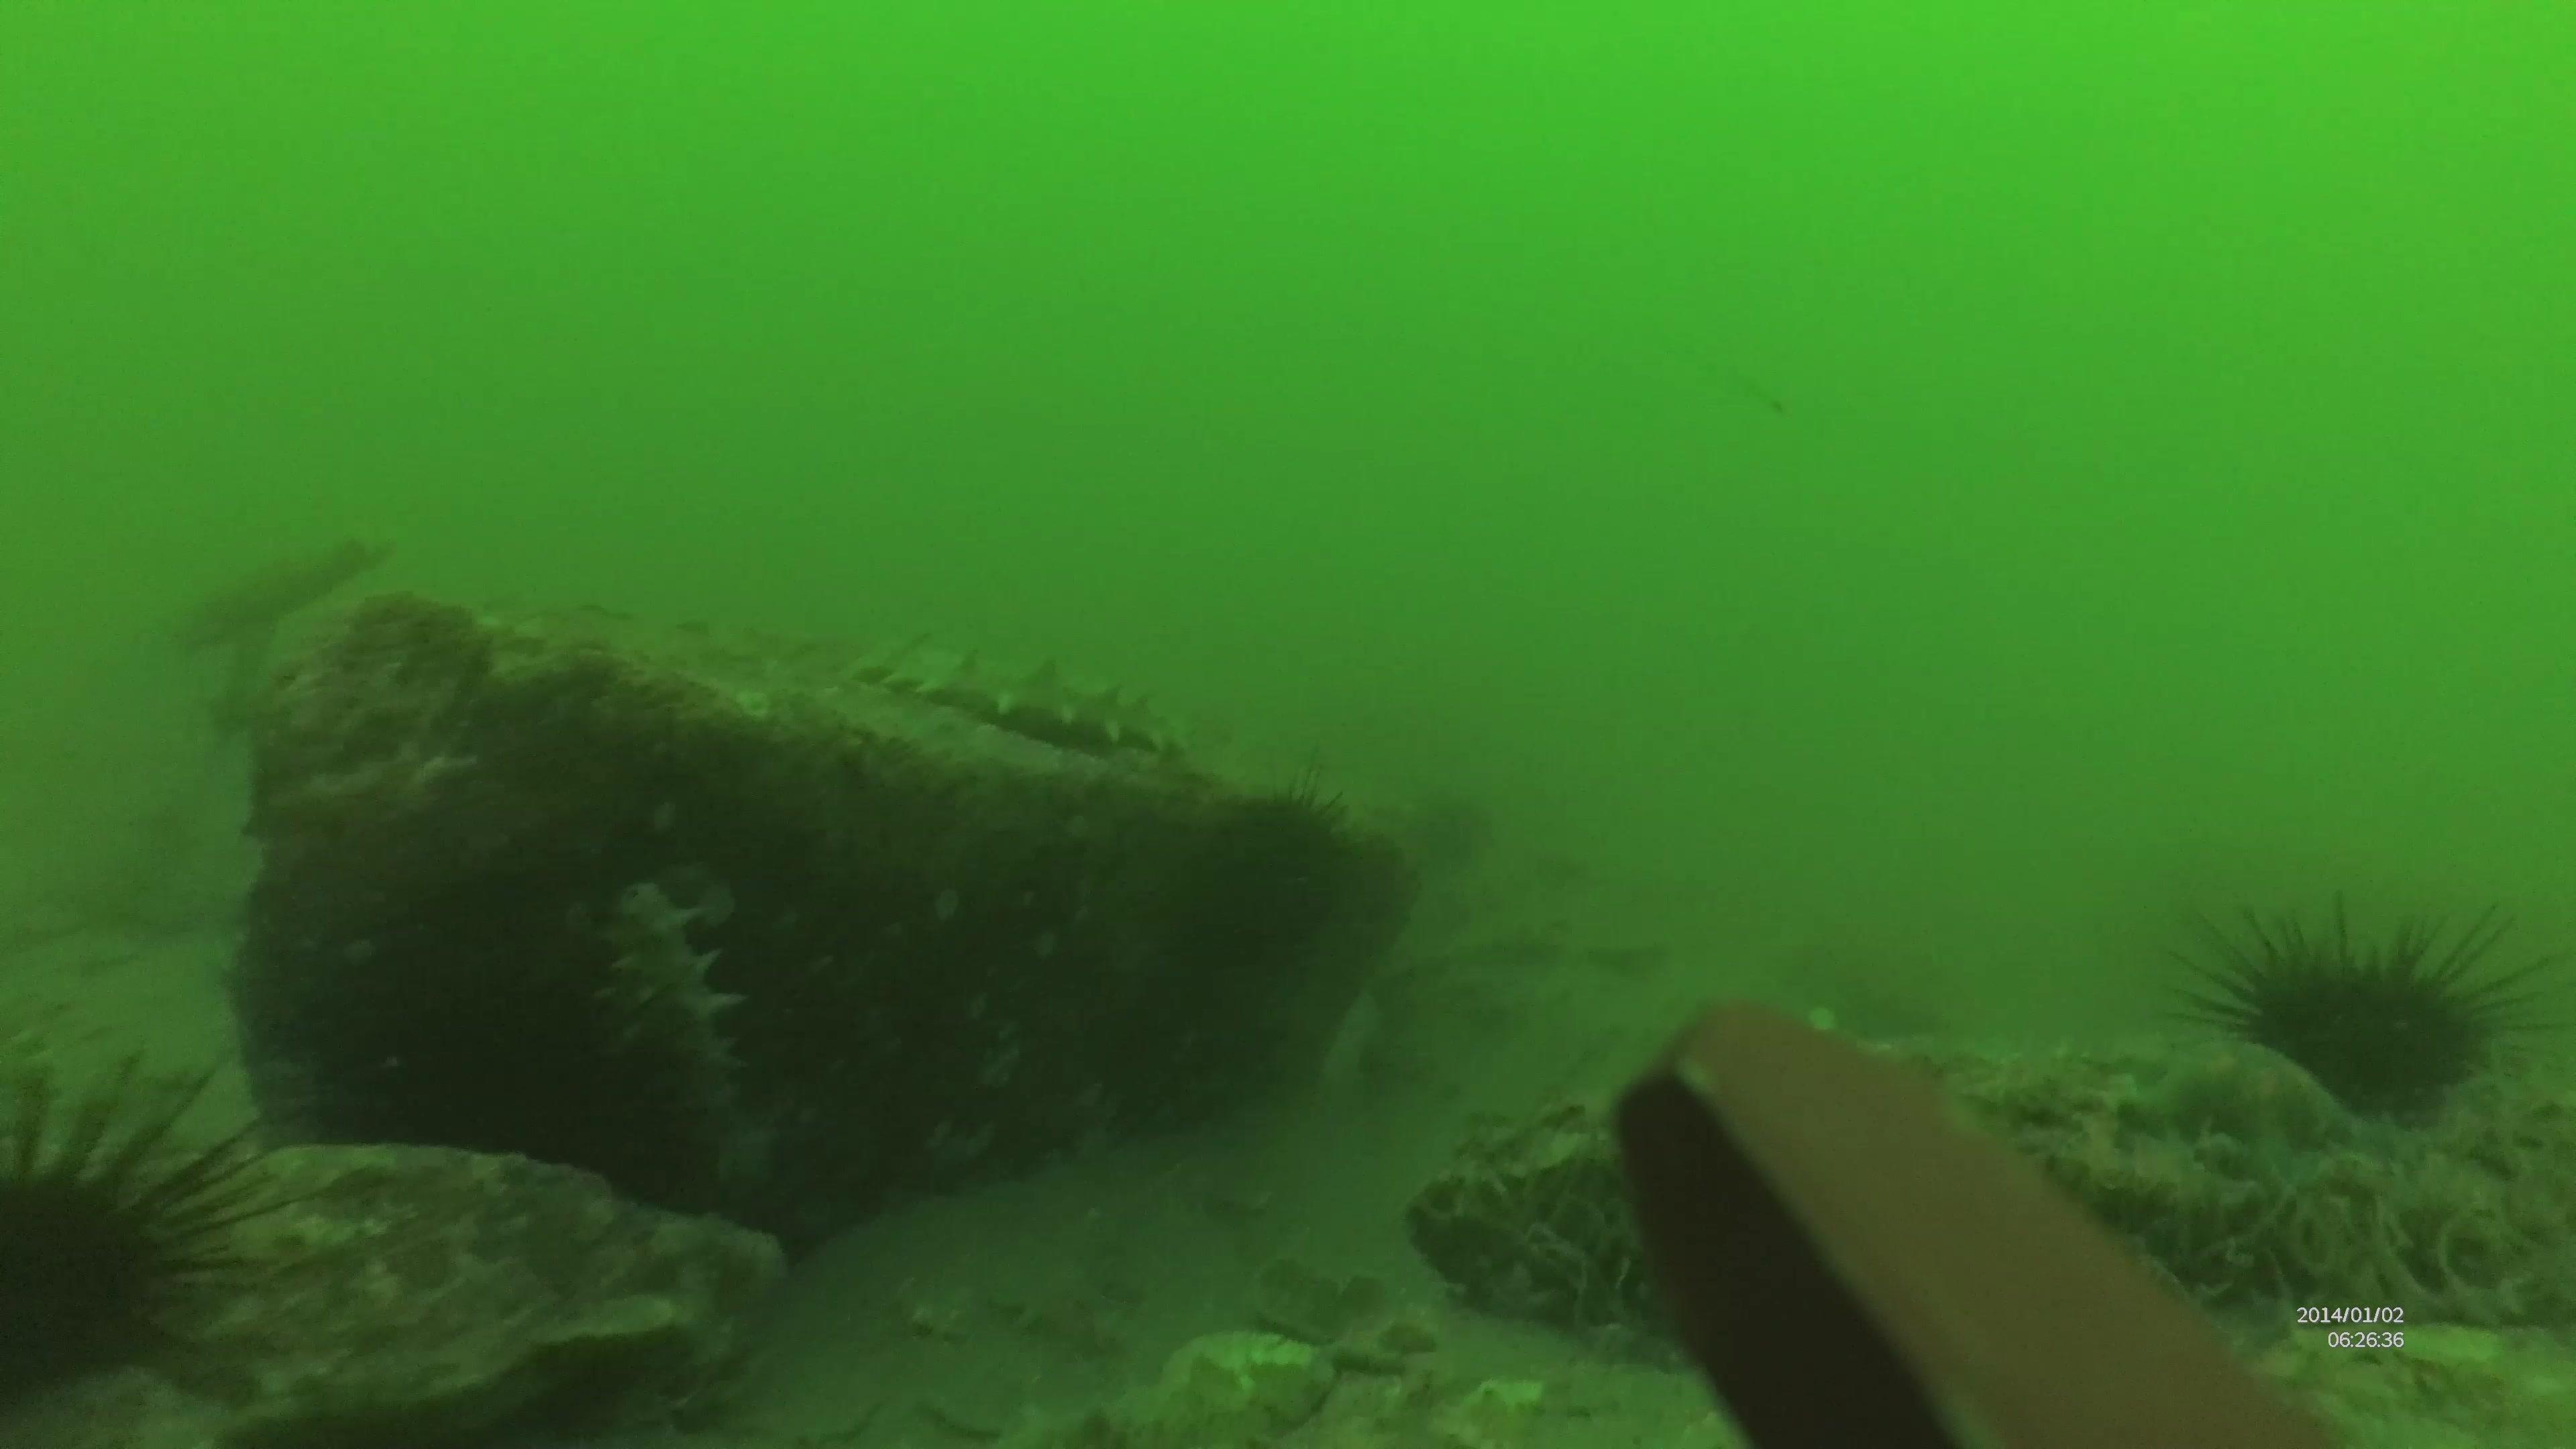echinus: (11, 1056, 304, 1403), (2173, 883, 2567, 1111), (1214, 747, 1361, 962)
holothurian: (587, 878, 773, 1205), (851, 616, 1200, 763)
scallop: (1168, 1322, 1343, 1435)
